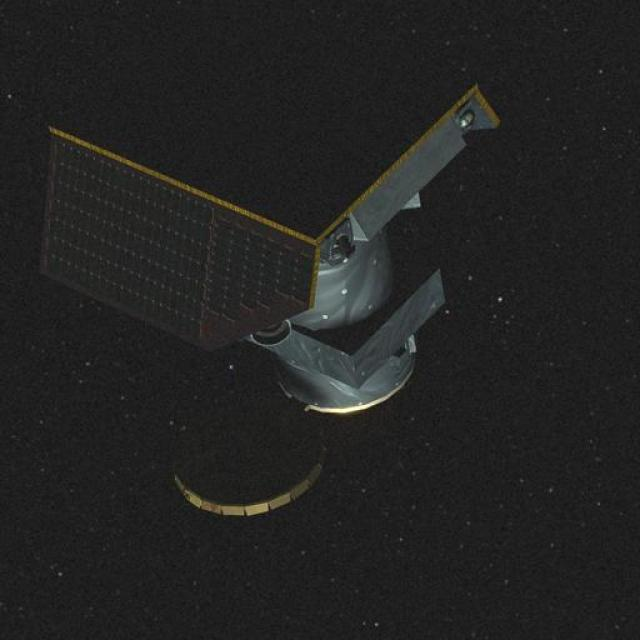debris: (34, 72, 512, 518)
